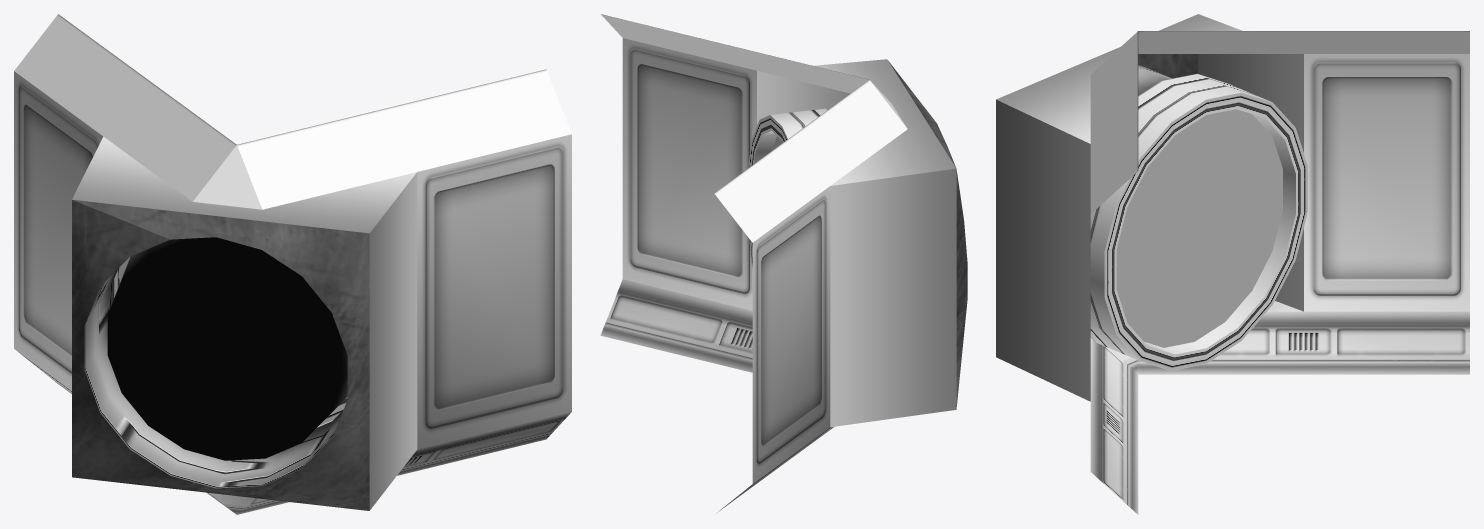
Rendered from Sect_Corner_2_Pipe.FBX.
The picture shows the model from 3 angles, left to right: view 1: azimuth 30°, elevation 25°; view 2: azimuth 150°, elevation 25°; view 3: azimuth 270°, elevation 25°; orthographic projection. The views are drawn at different scales.
Visible parts, largest first — view 1: Sect_Corner_C_002; view 2: Sect_Corner_C_002; view 3: Sect_Corner_C_002, Transparent_Corner_C_003.
Boxes of the visible parts, x1,y1,x2,y2 form: Sect_Corner_C_002: [14, 14, 571, 514]; Sect_Corner_C_002: [600, 14, 967, 513]; Sect_Corner_C_002: [996, 14, 1469, 514]; Transparent_Corner_C_003: [1116, 109, 1282, 347].
Size of the model in its own units: 5 by 4 by 5.
